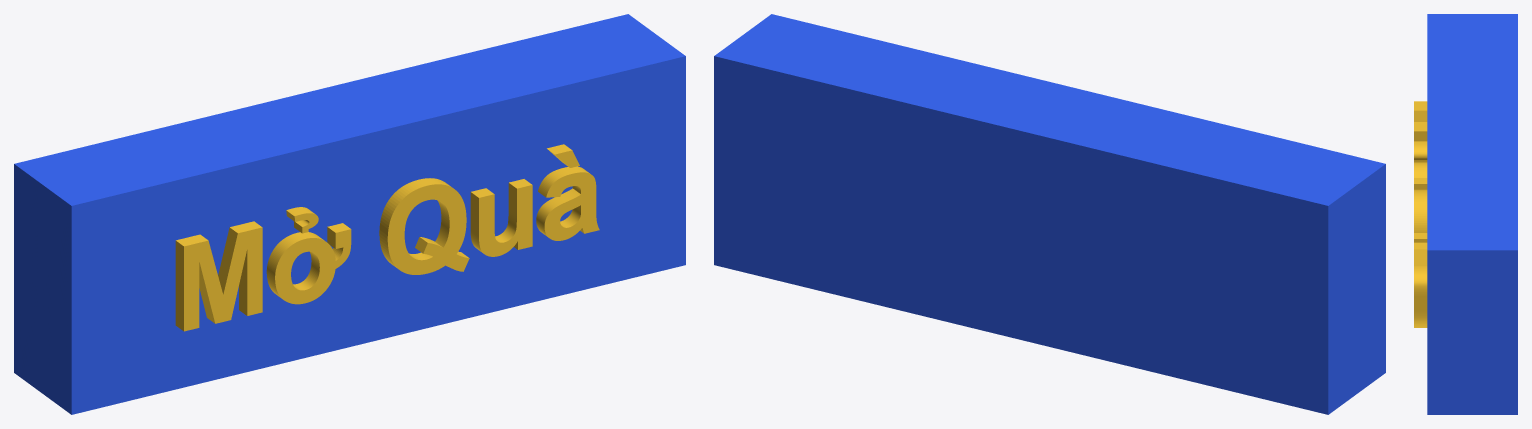
The model's file is gga.glb.
3 views of the same model, side by side, from view 1: azimuth 30°, elevation 25°; view 2: azimuth 150°, elevation 25°; view 3: azimuth 270°, elevation 25° (orthographic). The views are drawn at different scales.
Parts seen in each view (by area): view 1: Cube, Text.007; view 2: Cube; view 3: Cube, Text.007.
Boxes of the visible parts, x1,y1,x2,y2 form: Cube: (14,14,685,414); Text.007: (175,144,599,331); Cube: (714,14,1385,414); Cube: (1427,14,1517,414); Text.007: (1414,101,1427,327).
Size of the model in its own units: 2.11 by 0.6873 by 0.3925.
